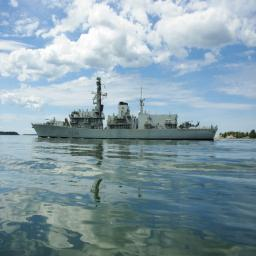Fragata: (32, 78, 220, 141)
